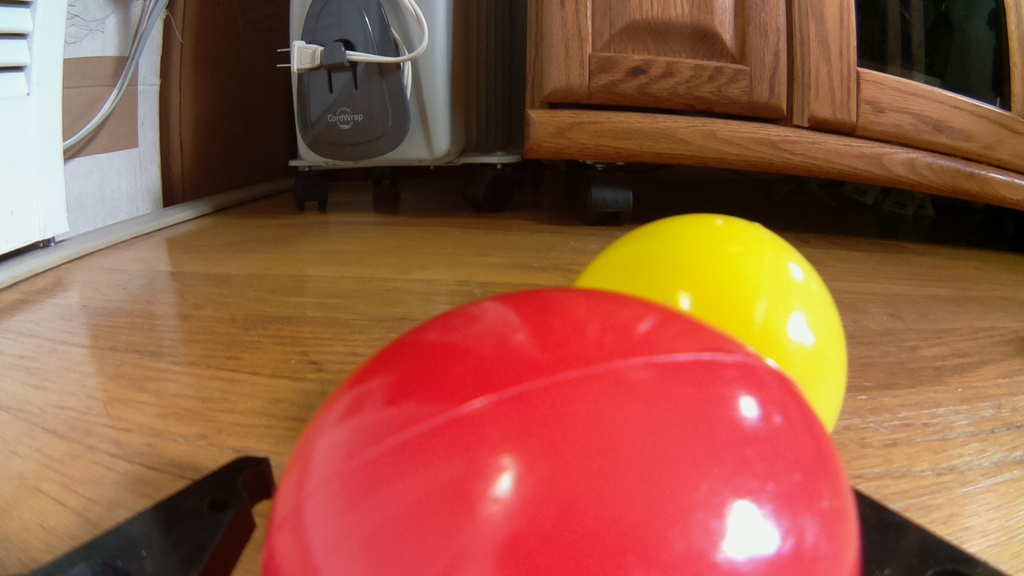ball: (570, 212, 852, 424)
